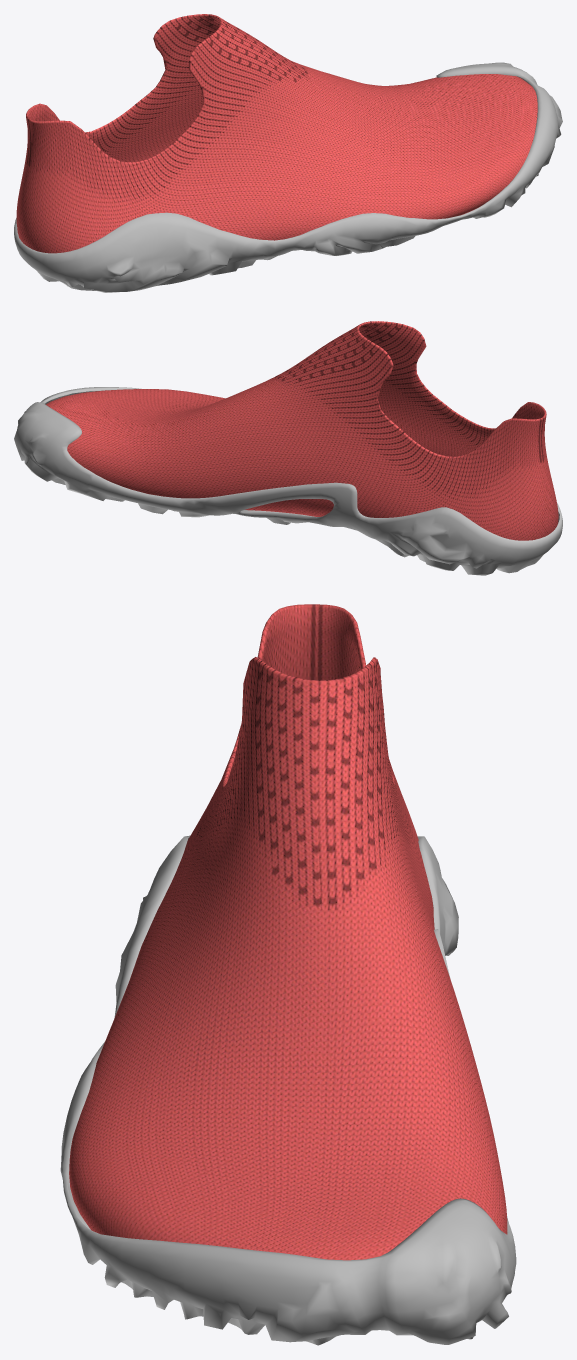
Rendered from wave-old.glb.
3 renders of one model, top to bottom at view 1: azimuth 30°, elevation 25°; view 2: azimuth 150°, elevation 25°; view 3: azimuth 270°, elevation 25°, orthographic. The views are drawn at different scales.
Parts seen in each view (by area): view 1: Wave_Offroad_Low; view 2: Wave_Offroad_Low; view 3: Wave_Offroad_Low.
Part boxes in pixels (bbox=[...]): Wave_Offroad_Low: bbox=[14, 14, 562, 292]; Wave_Offroad_Low: bbox=[14, 321, 562, 575]; Wave_Offroad_Low: bbox=[60, 604, 516, 1345].
Size of the model in its own units: 0.6062 by 0.2355 by 0.2364.
Materials: 1 (1 with a texture image).
